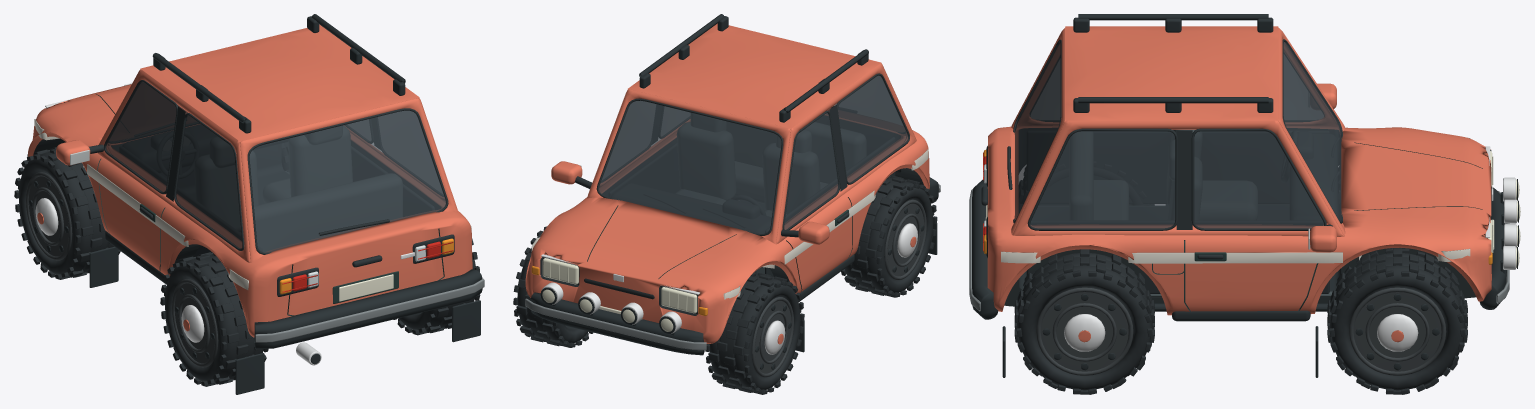
Rendered from scamp_lod1.fbx.
3 views of the same model, side by side, from view 1: azimuth 30°, elevation 25°; view 2: azimuth 150°, elevation 25°; view 3: azimuth 270°, elevation 25° (orthographic). The views are drawn at different scales.
Parts seen in each view (by area): view 1: Body, Wheel_RL_Mesh, Wheel_FL_Mesh, Wheel_RR_Mesh; view 2: Body, Wheel_FL_Mesh, Wheel_RL_Mesh, Wheel_FR_Mesh; view 3: Body, Wheel_FR_Mesh, Wheel_RR_Mesh, Wheel_RL_Mesh.
Part boxes in pixels (x1=…): Body: x1=27, y1=14, x2=484, y2=394; Wheel_RL_Mesh: x1=160, y1=252, x2=268, y2=386; Wheel_FL_Mesh: x1=14, y1=147, x2=120, y2=279; Wheel_RR_Mesh: x1=393, y1=238, x2=480, y2=335; Body: x1=525, y1=14, x2=940, y2=355; Wheel_FL_Mesh: x1=705, y1=272, x2=804, y2=394; Wheel_RL_Mesh: x1=841, y1=175, x2=937, y2=297; Wheel_FR_Mesh: x1=513, y1=226, x2=592, y2=347; Body: x1=969, y1=14, x2=1520, y2=377; Wheel_FR_Mesh: x1=1327, y1=248, x2=1467, y2=394; Wheel_RR_Mesh: x1=1014, y1=249, x2=1154, y2=394; Wheel_RL_Mesh: x1=1019, y1=161, x2=1154, y2=205.
Bounding box in the file's own units: 229 × 188 × 342.
